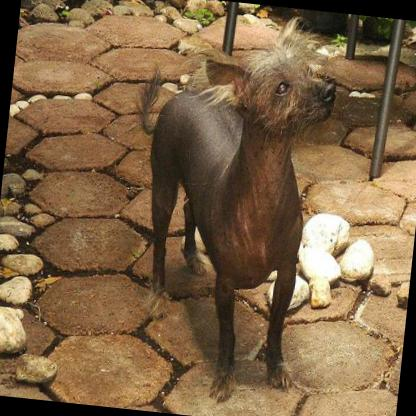Mexican_hairless: (104, 0, 343, 410)
